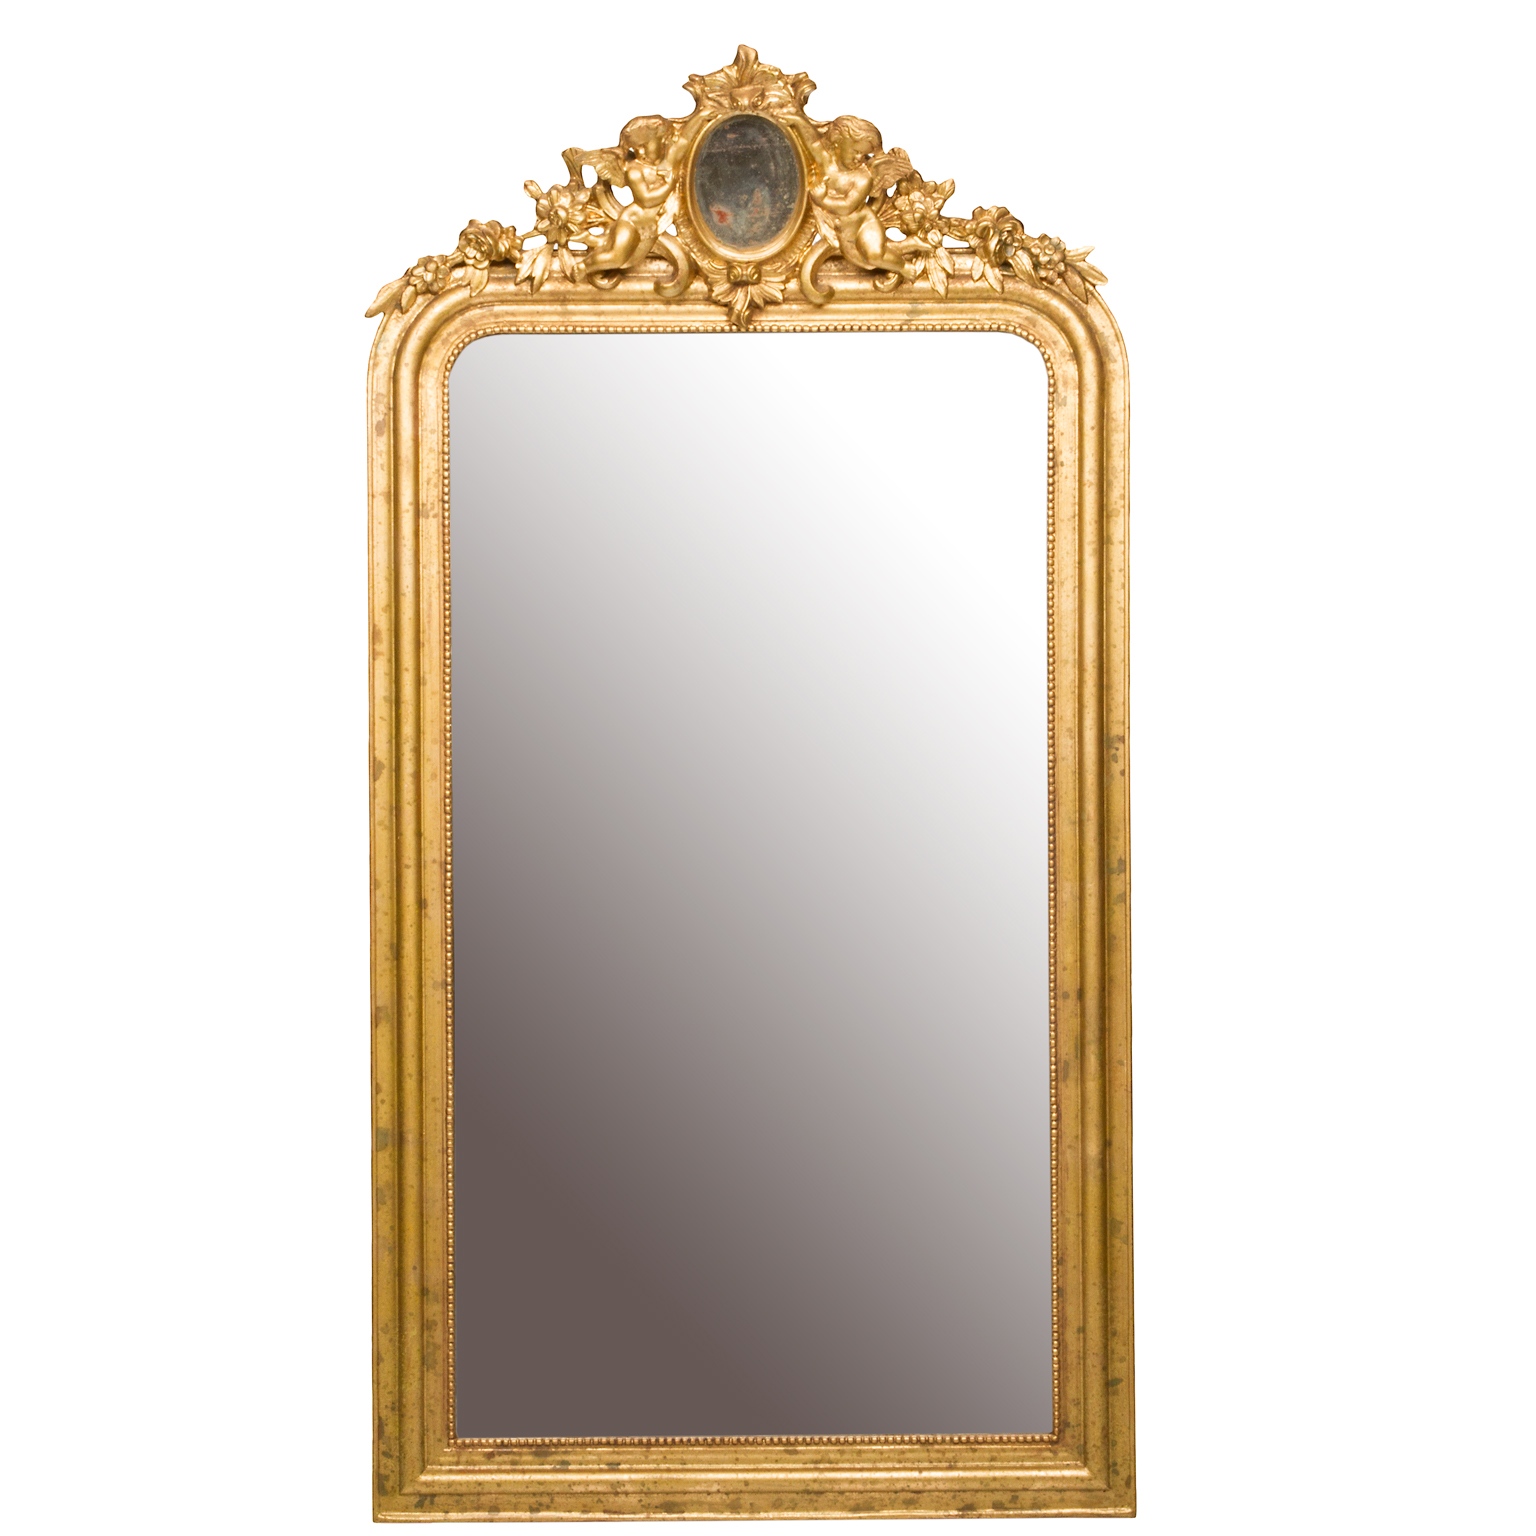Nonrec_Glass: (364, 111, 1148, 1525)
